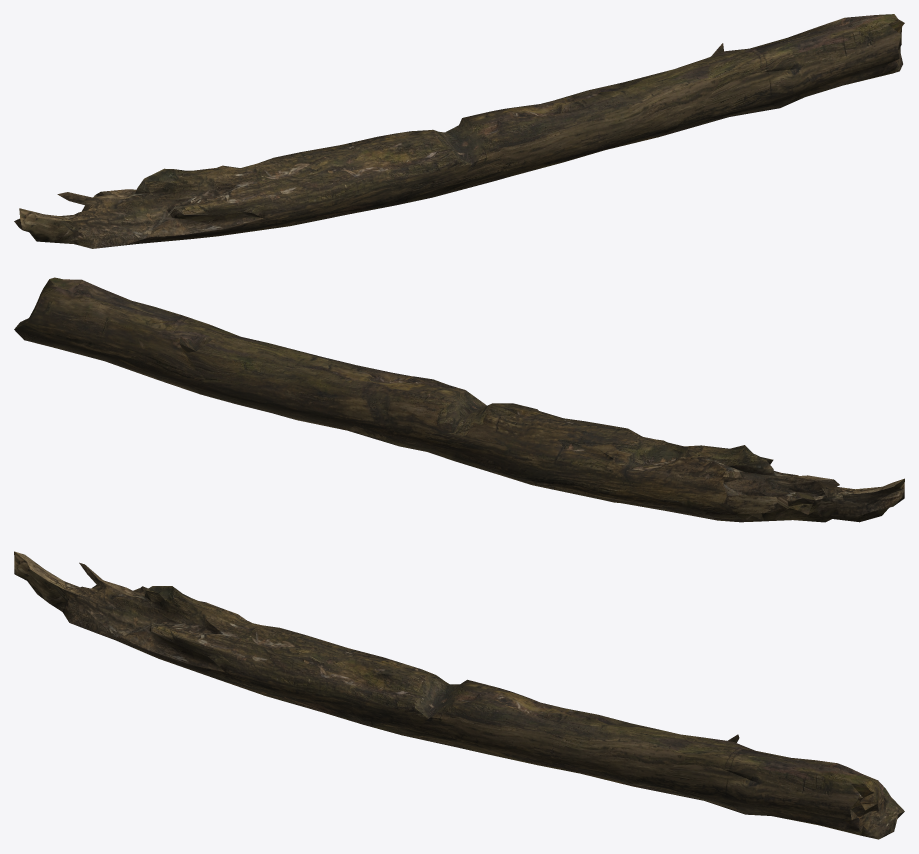
File: log.glb
The picture shows the model from 3 angles, top to bottom: view 1: azimuth 30°, elevation 25°; view 2: azimuth 150°, elevation 25°; view 3: azimuth 330°, elevation 25°; orthographic projection.
Visible parts, largest first — view 1: Log; view 2: Log; view 3: Log.
Part boxes in pixels (x1,y1,x2,y2): Log: (14,14,904,248); Log: (14,277,904,522); Log: (14,551,904,839).
Size of the model in its own units: 3.04 by 0.2904 by 0.2748.
1 material, 1 textured.
